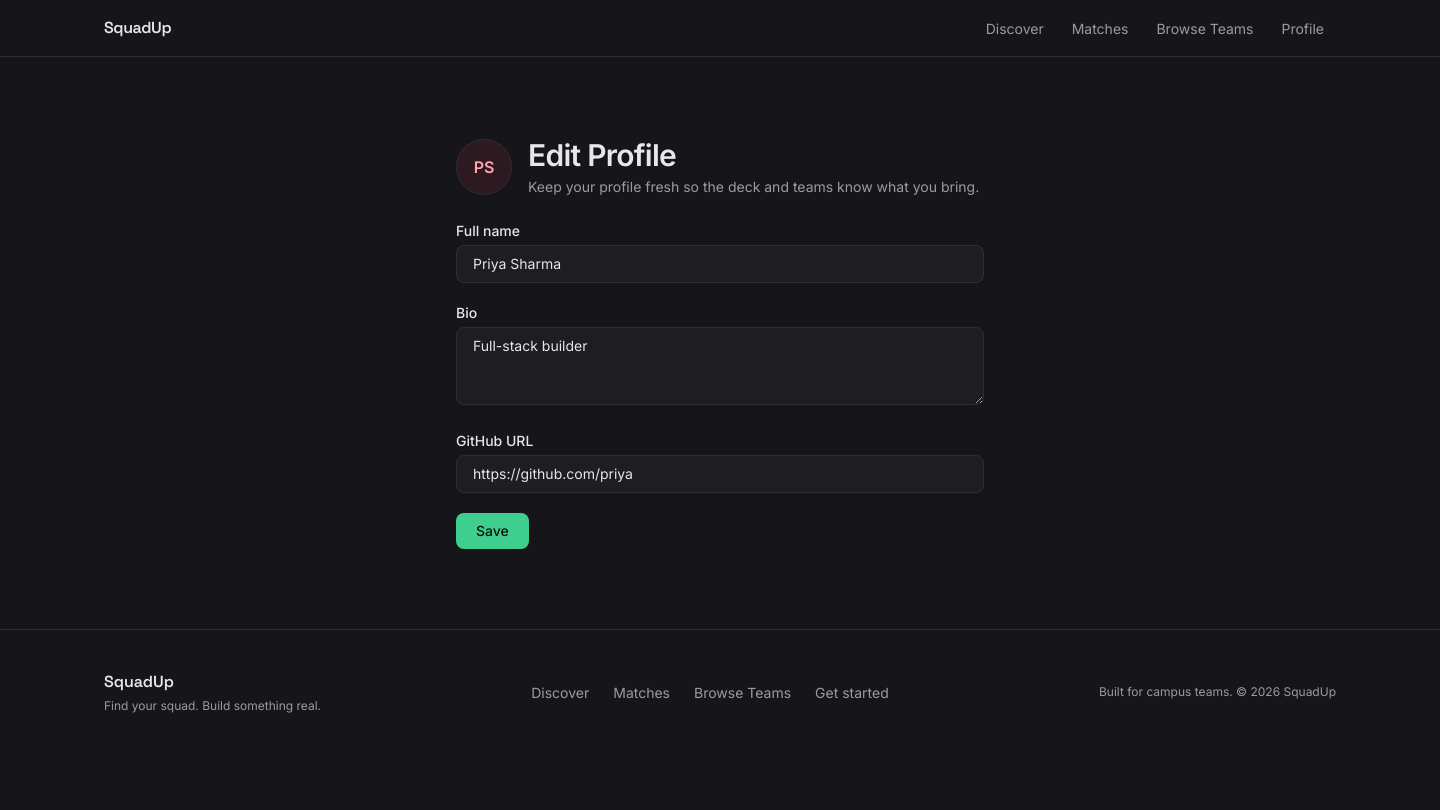
Test: profile edit page — Flow 1 'edit own profile' › rejects an empty name
The width and height of the screenshot is (1440, 810).
Clear the field labelled "Full name" at (720, 264), box [456,245,984,283]
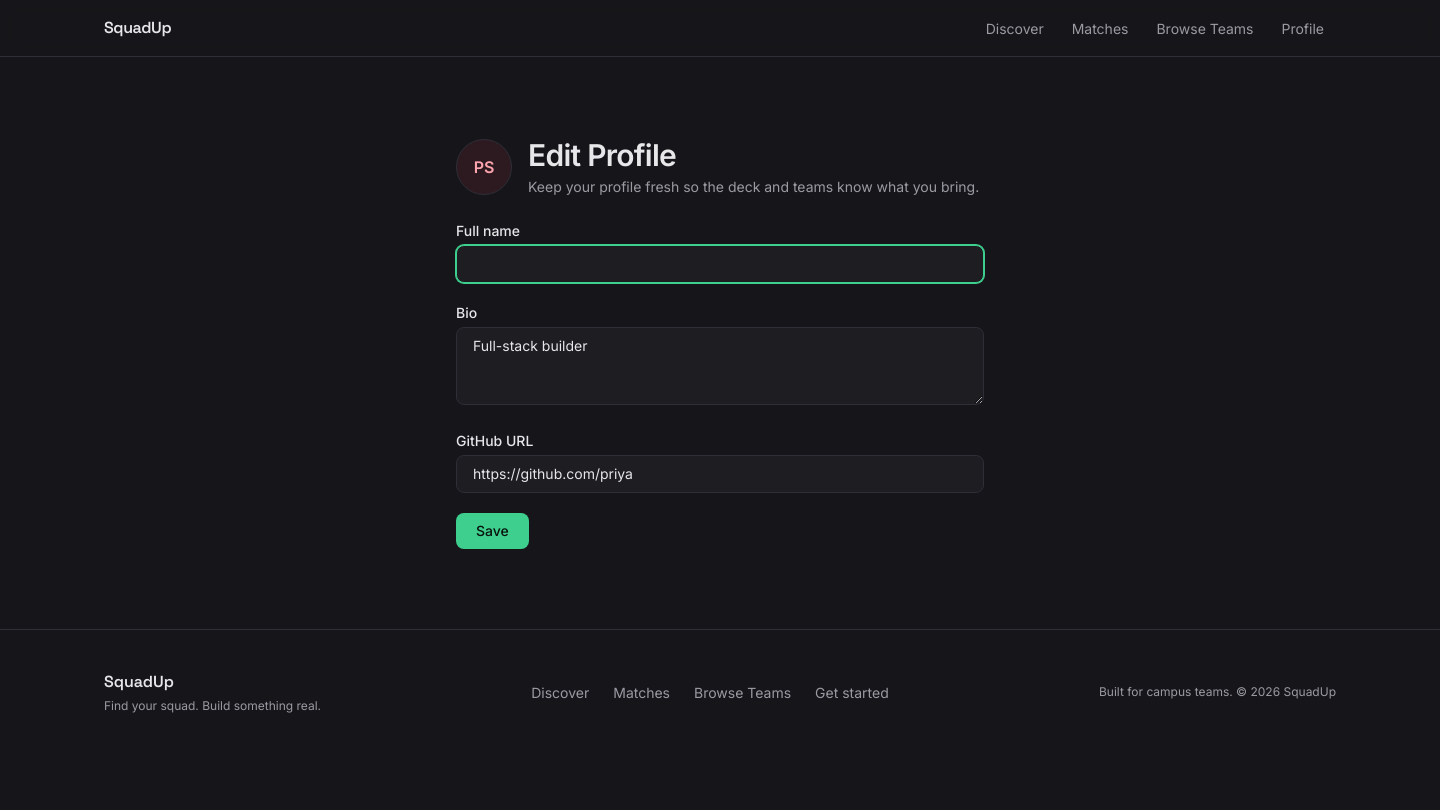
Click the button "Save".
click(492, 531)  # box [456,513,529,549]
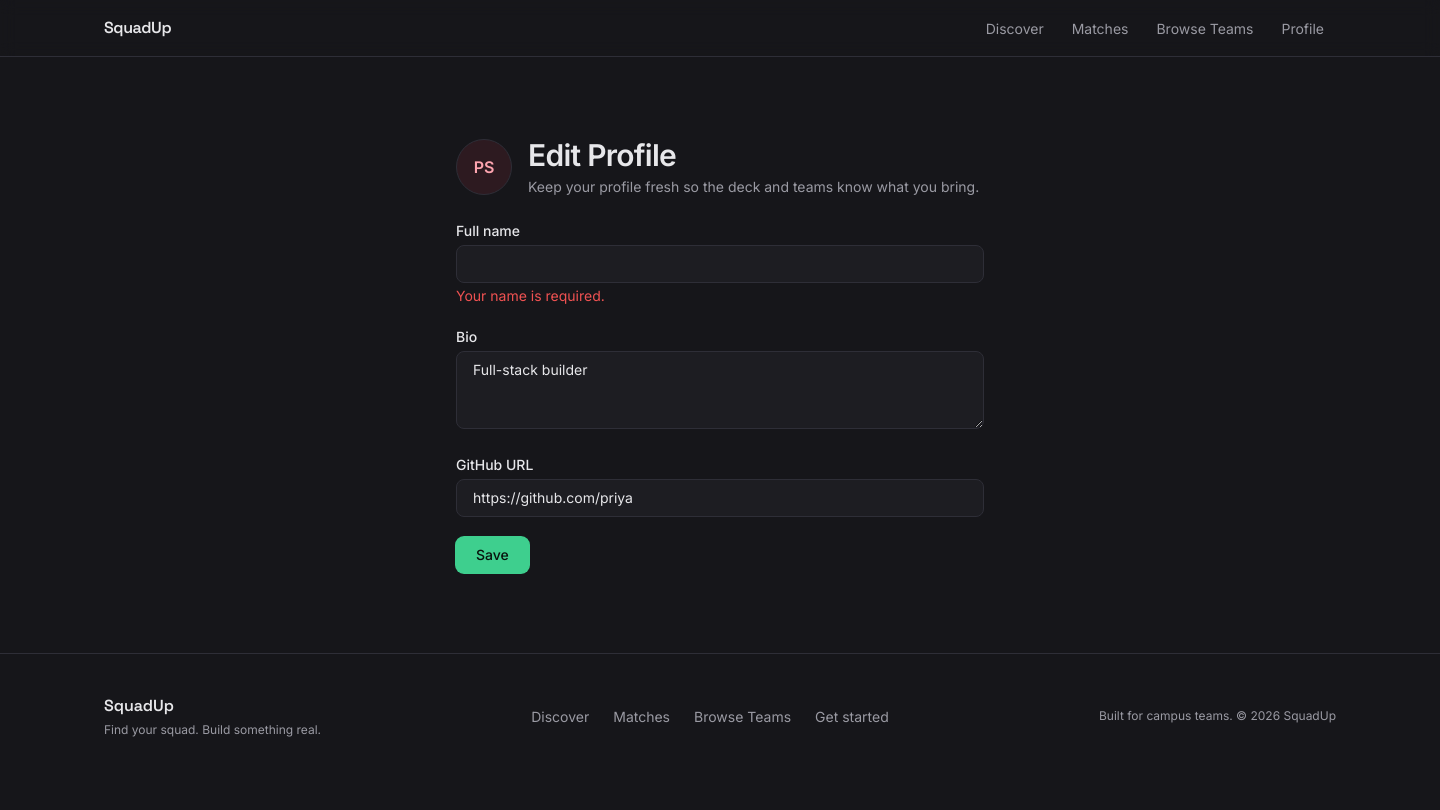
Result: the text "Your name is required." is shown at [456,287,605,304]
